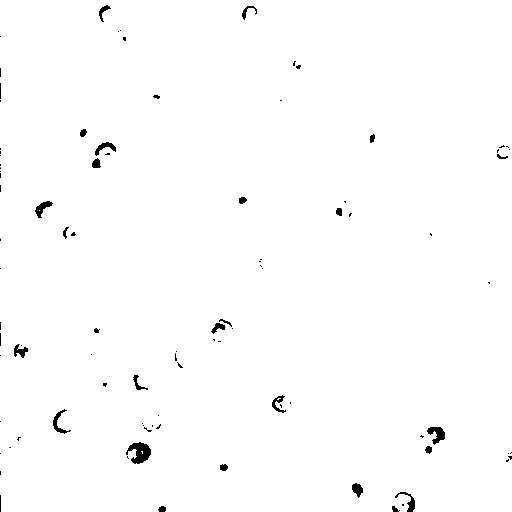micro-algae: (1, 48, 123, 185), (410, 38, 508, 137), (275, 78, 361, 163), (271, 0, 335, 54), (35, 239, 90, 292), (98, 378, 149, 433), (98, 482, 160, 512), (357, 119, 395, 163), (324, 190, 365, 228), (77, 0, 136, 26), (2, 327, 41, 365), (1, 28, 22, 96), (79, 145, 110, 185), (82, 320, 119, 353), (63, 117, 97, 149), (86, 369, 122, 399), (475, 270, 506, 304), (204, 318, 237, 349), (246, 376, 280, 405), (32, 199, 65, 228), (107, 27, 137, 58), (283, 48, 313, 78), (367, 295, 397, 324), (426, 244, 456, 271), (416, 424, 447, 450), (212, 455, 239, 482), (95, 141, 120, 170), (131, 368, 161, 392), (7, 428, 34, 454), (52, 408, 78, 435), (125, 441, 154, 465), (157, 474, 180, 502), (419, 437, 445, 461), (62, 222, 89, 245), (174, 346, 198, 371), (495, 448, 512, 483), (390, 491, 417, 512), (146, 497, 183, 511), (98, 3, 121, 25), (272, 88, 293, 112), (110, 0, 140, 16), (258, 247, 277, 272), (1, 70, 13, 109), (416, 224, 437, 245), (271, 394, 293, 414), (142, 412, 162, 434), (347, 481, 365, 501), (1, 193, 10, 233), (242, 5, 260, 24), (494, 143, 512, 161), (437, 65, 453, 83), (235, 194, 250, 207), (169, 0, 194, 7)
